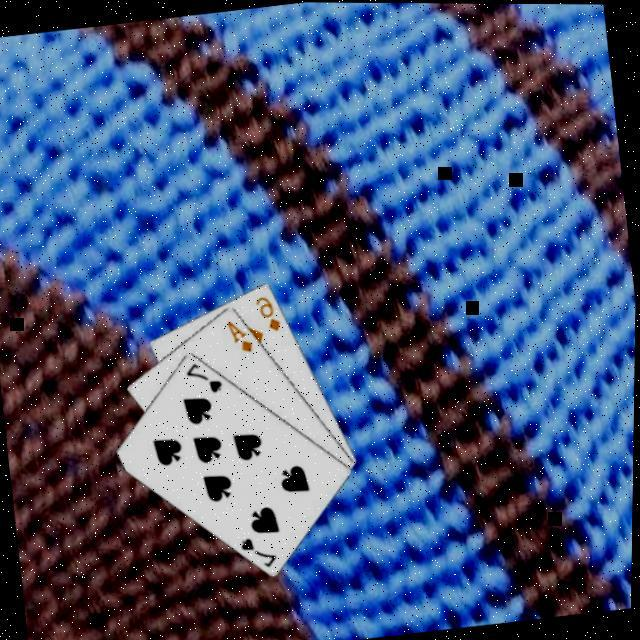6D: (254, 289, 288, 334)
7S: (239, 528, 284, 571), (184, 354, 229, 396)
AD: (224, 312, 260, 356)
